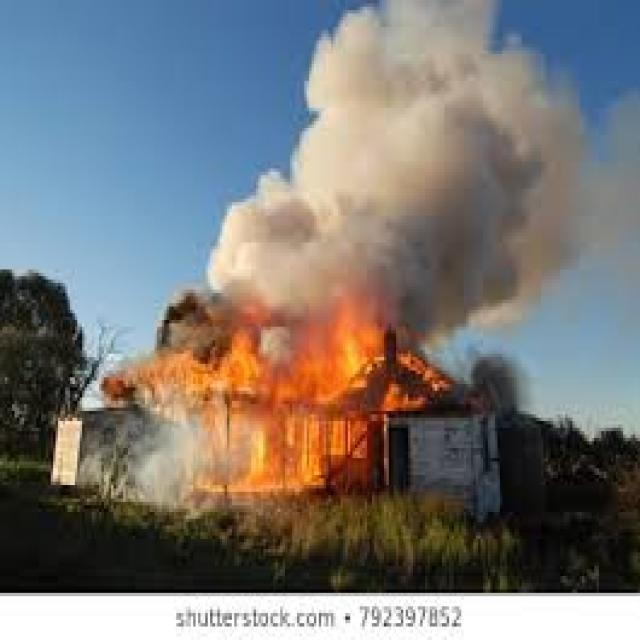Fire: (153, 344, 403, 501)
Smoke: (225, 10, 597, 317)
